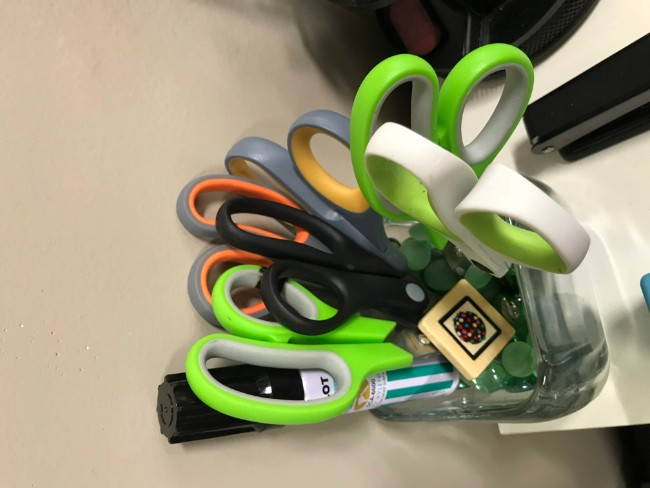cookie: (433, 293, 507, 364)
